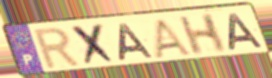A: (152, 17, 195, 59), (118, 22, 157, 62), (228, 12, 266, 51)
H: (177, 12, 228, 57)
R: (32, 25, 84, 72)
X: (69, 22, 120, 68)
